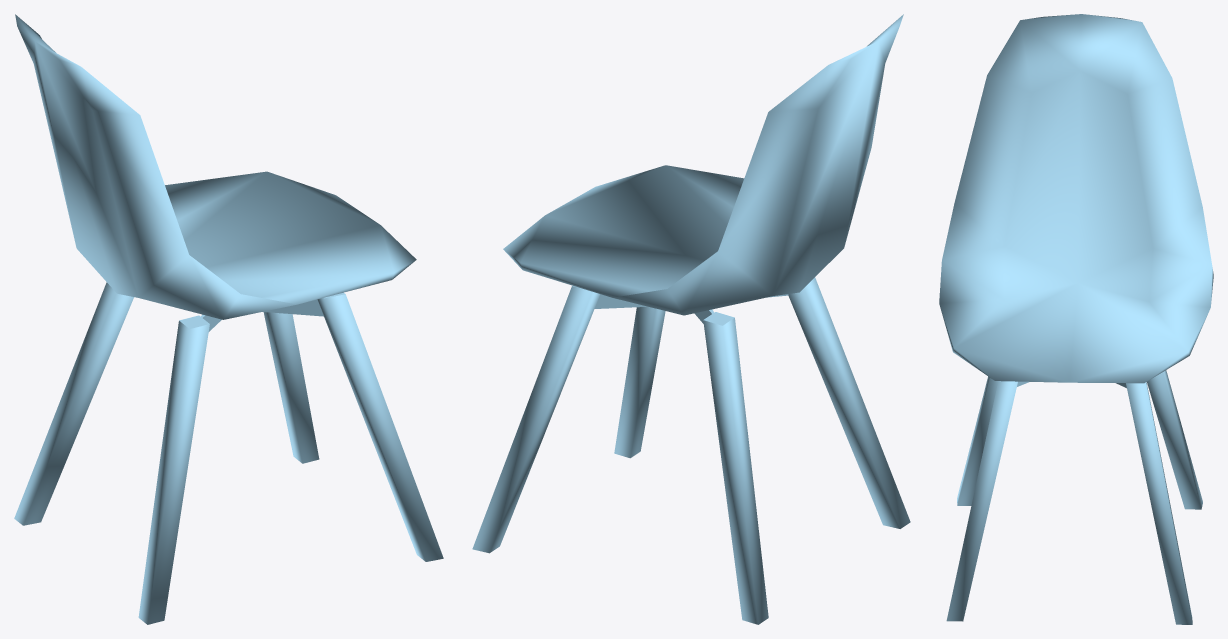
File: chairCircle2.0.fbx
3 views of the same model, side by side, from view 1: azimuth 30°, elevation 25°; view 2: azimuth 150°, elevation 25°; view 3: azimuth 270°, elevation 25° (orthographic). The views are drawn at different scales.
Parts seen in each view (by area): view 1: chairCircle; view 2: chairCircle; view 3: chairCircle.
Boxes of the visible parts, left/top/right/bottom form: chairCircle: left=14, top=14, right=443, bottom=624; chairCircle: left=472, top=14, right=910, bottom=624; chairCircle: left=939, top=14, right=1213, bottom=624.
Size of the model in its own units: 5.02 by 7.64 by 4.07.
